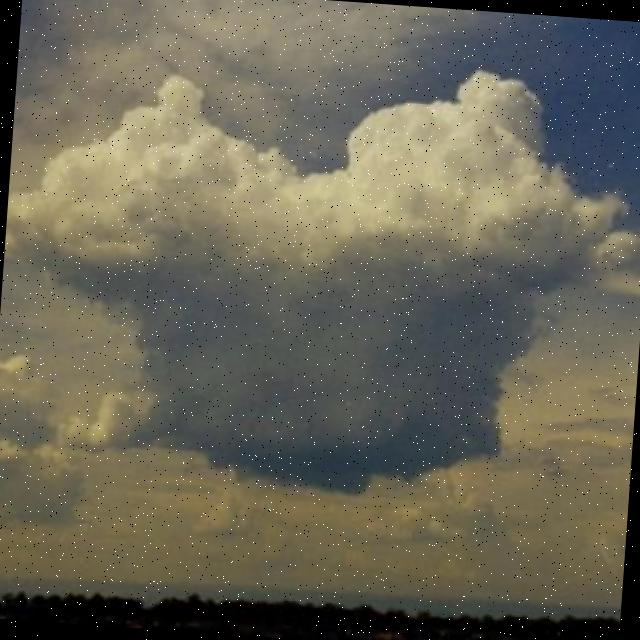Cs: (1, 29, 640, 513)
